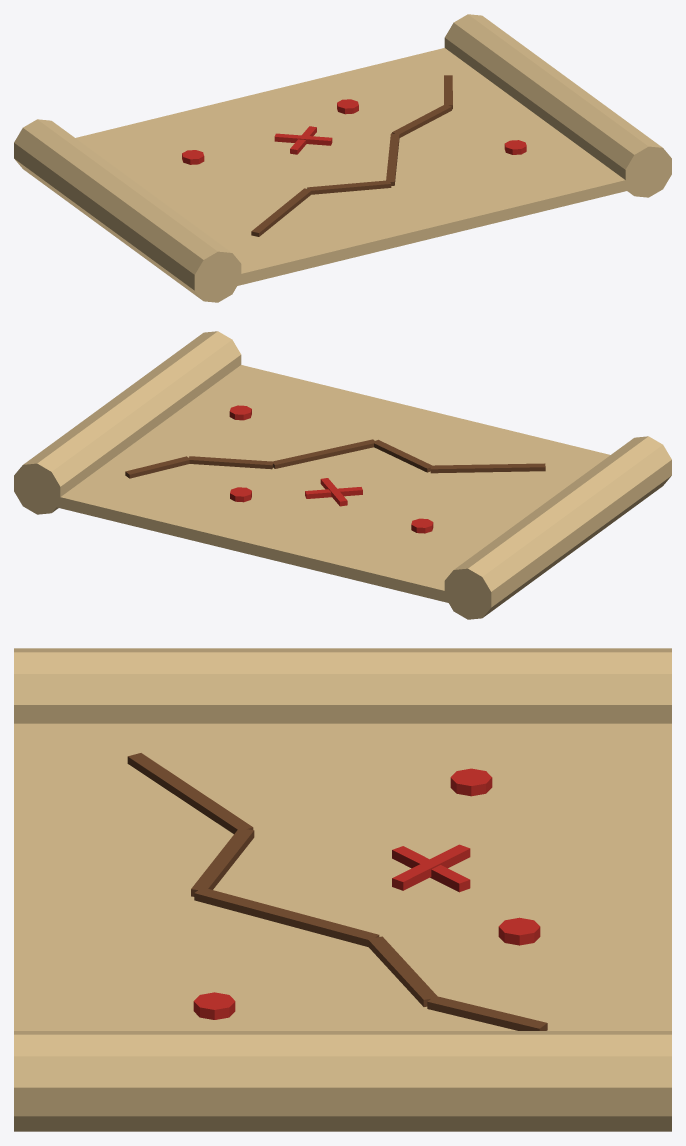
File: old_map.glb
3 views of the same model, one above another, from view 1: azimuth 30°, elevation 25°; view 2: azimuth 150°, elevation 25°; view 3: azimuth 270°, elevation 25° (orthographic). The views are drawn at different scales.
Visible parts, largest first — view 1: MapSheet, RolledEdge, RolledEdge.001, Path0, Path1, Path3, Path2, MapX2; view 2: MapSheet, RolledEdge, RolledEdge.001, Path0, Path2, Path3, Path1, Path4; view 3: MapSheet, RolledEdge.001, RolledEdge, Path2, Path0, Path4, Path3, Path1, MapX2, MapX1, MapMark, MapMark.001 (+1 smaller).
Boxes of the visible parts, x1,y1,x2,y2 form: MapSheet: (75,48,654,291); RolledEdge: (14,119,241,302); RolledEdge.001: (444,14,671,197); Path0: (251,188,311,236); Path1: (307,180,391,194); Path3: (392,104,451,137); Path2: (386,133,399,185); MapX2: (274,133,332,145); MapSheet: (31,365,610,608); RolledEdge: (444,436,671,619); RolledEdge.001: (14,331,241,514); Path0: (430,463,545,473); Path2: (272,439,376,468); Path3: (188,456,273,469); Path1: (372,439,431,472); Path4: (125,456,189,478); MapSheet: (14,723,671,1030); RolledEdge.001: (14,1031,671,1131); RolledEdge: (14,648,671,723); Path2: (194,889,379,946); Path0: (127,753,253,833); Path4: (427,996,547,1030); Path3: (368,936,438,1006); Path1: (191,829,254,896); MapX2: (392,844,470,890); MapX1: (392,846,470,892); MapMark: (450,768,492,796); MapMark.001: (498,917,540,945).
Bounding box in the file's own units: 6.25 × 0.64 × 4.1.
